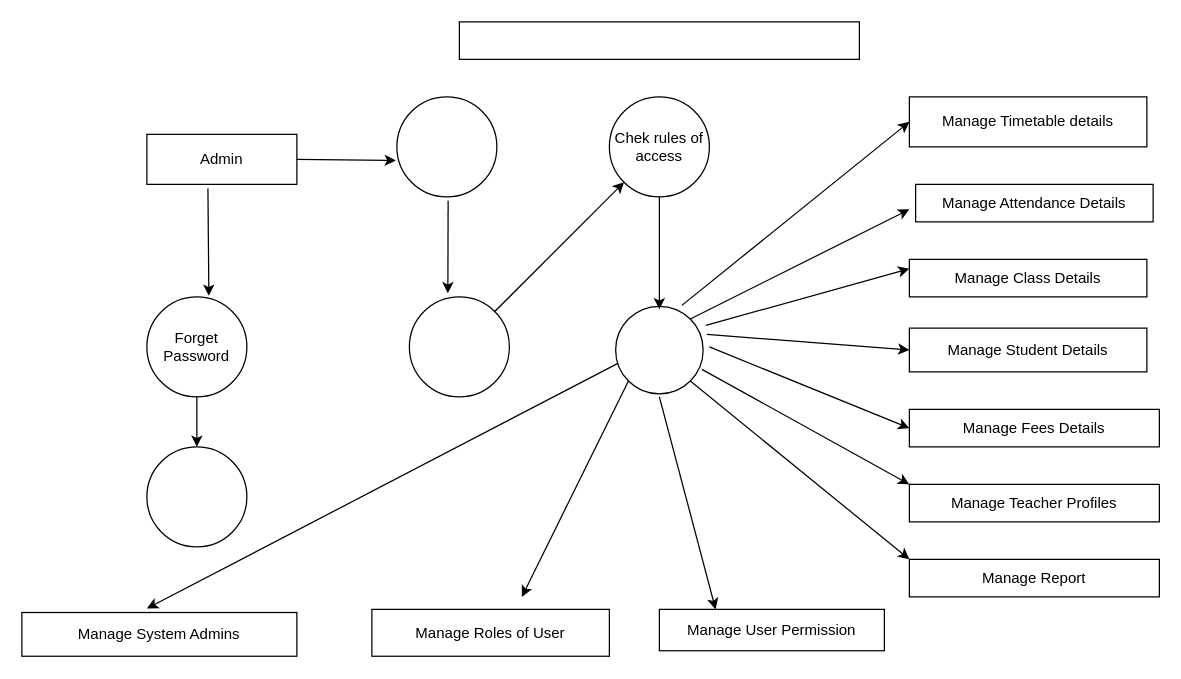
Some shapes in this 1181 by 679 pixel diagram are drawn without their labels. The centre of each missing label's shape, as x and y in pixels:
"Check Credentials" goes at [458,346].
"Login to system" goes at [446,146].
"Manage Modules" goes at [658,349].
"Send Email to User" goes at [196,496].
"Student Information System" goes at [658,40].
